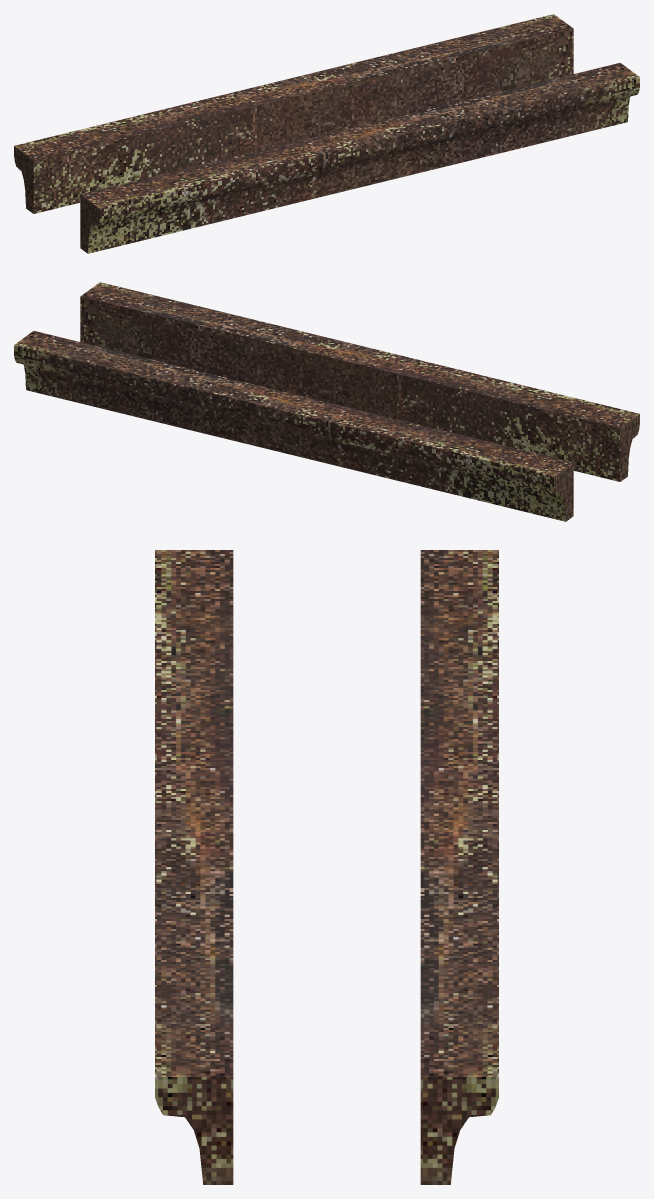
File: Ruims_Top.fbx
3 renders of one model, top to bottom at view 1: azimuth 30°, elevation 25°; view 2: azimuth 150°, elevation 25°; view 3: azimuth 270°, elevation 25°, orthographic. The views are drawn at different scales.
Parts seen in each view (by area): view 1: Plane.110; view 2: Plane.110; view 3: Plane.110.
Boxes of the visible parts, box(x1,y1,x2,y2) form: Plane.110: box(14, 14, 639, 253); Plane.110: box(14, 282, 639, 521); Plane.110: box(155, 550, 498, 1184).
Size of the model in its own units: 400 by 38.14 by 110.
